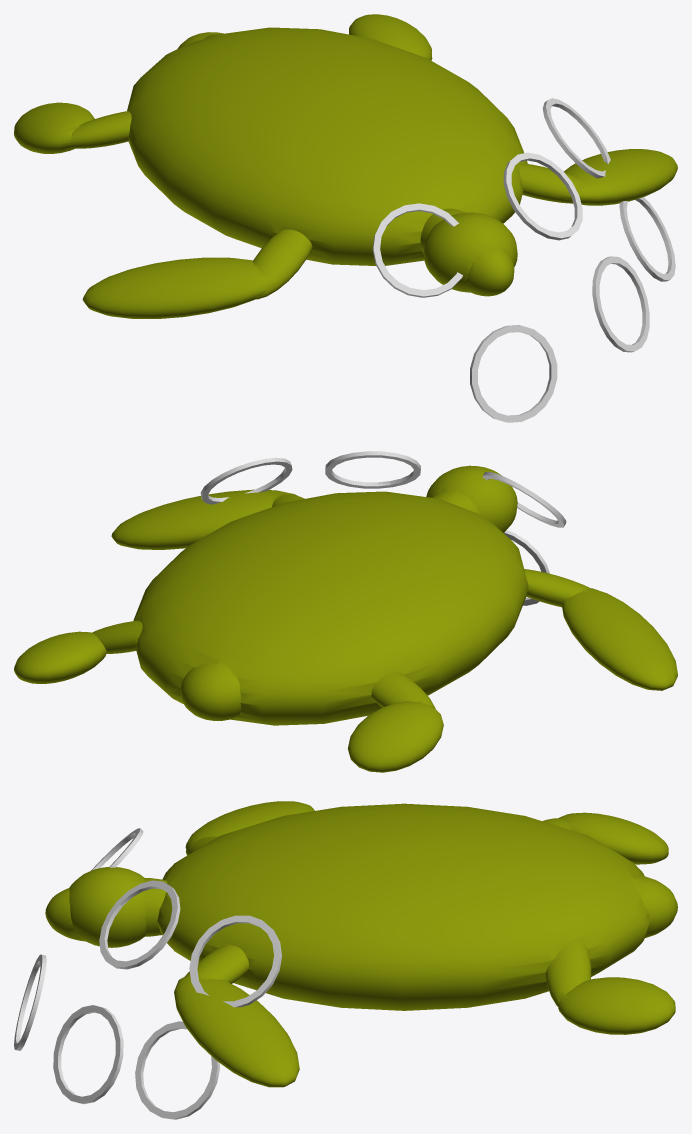
Rendered from turtle.gltf.
The picture shows the model from 3 angles, top to bottom: view 1: azimuth 30°, elevation 25°; view 2: azimuth 150°, elevation 25°; view 3: azimuth 270°, elevation 25°; orthographic projection. The views are drawn at different scales.
Size of the model in its own units: 13.58 by 4.55 by 13.33.
